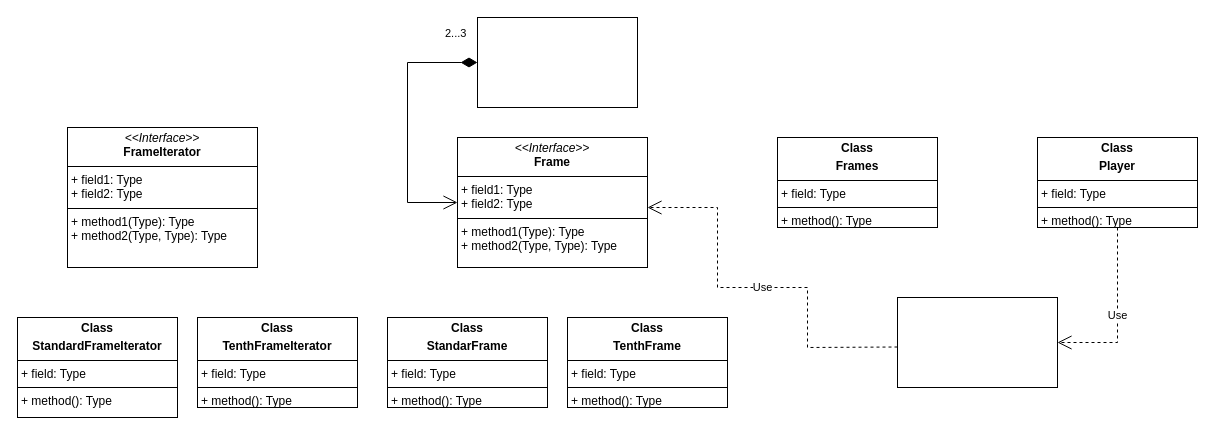
This 1215x435 diagram has some shape labels left out. The shapes that lost their labels are listed below. From the top down, each one's centre as x and y in pixels, then its label:
At (x=557, y=62): "Class TurnToRoll + field: Type + method(): Type".
At (x=977, y=342): "Class ScoreBoard + field: Type + method(): Type".
